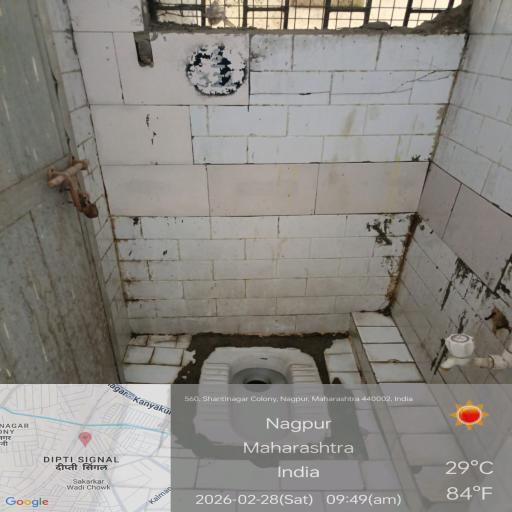clean_indian: (158, 300, 365, 475)
partial_dirty_floor: (34, 15, 485, 326), (54, 276, 477, 512)
